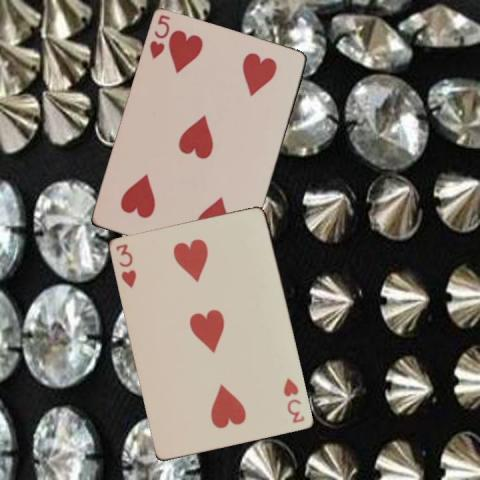3h: (280, 375, 306, 425), (113, 241, 138, 290)
5h: (147, 12, 172, 61)
